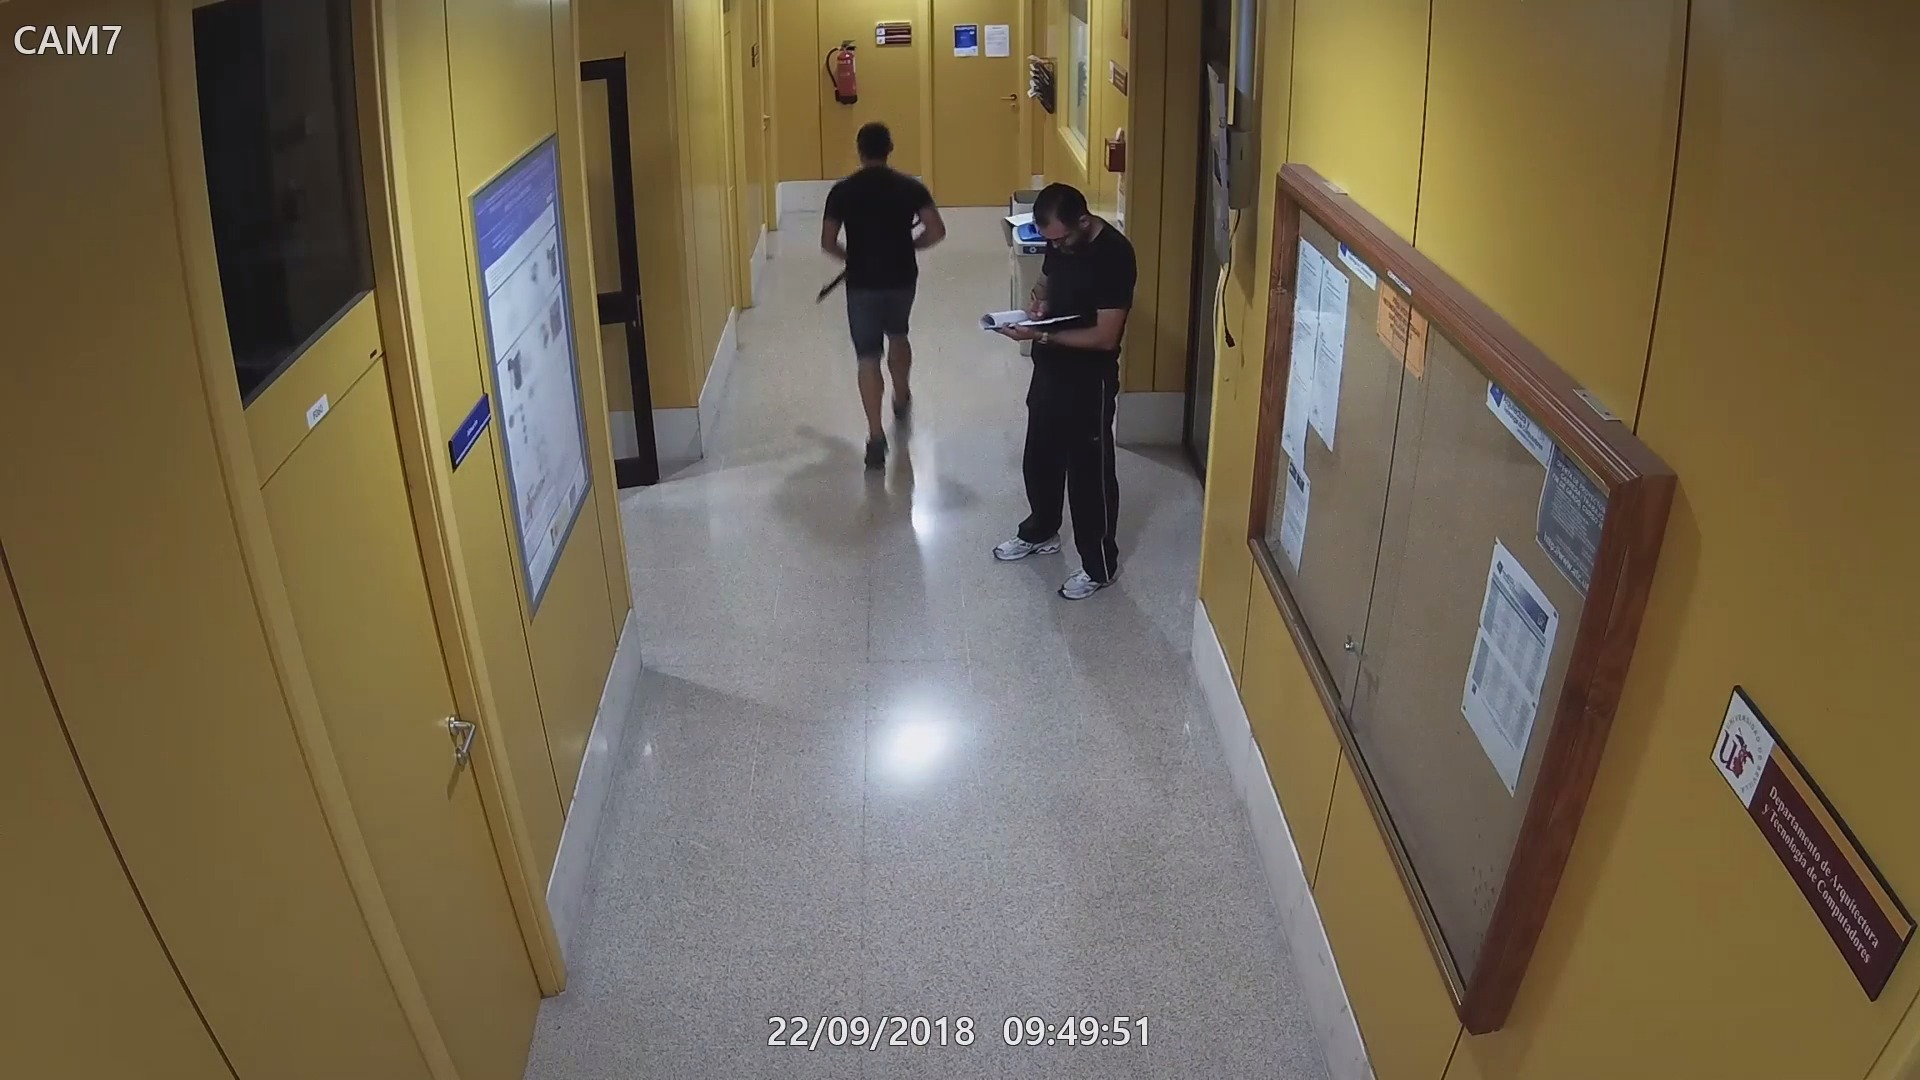Short_rifle: (816, 257, 847, 305)
